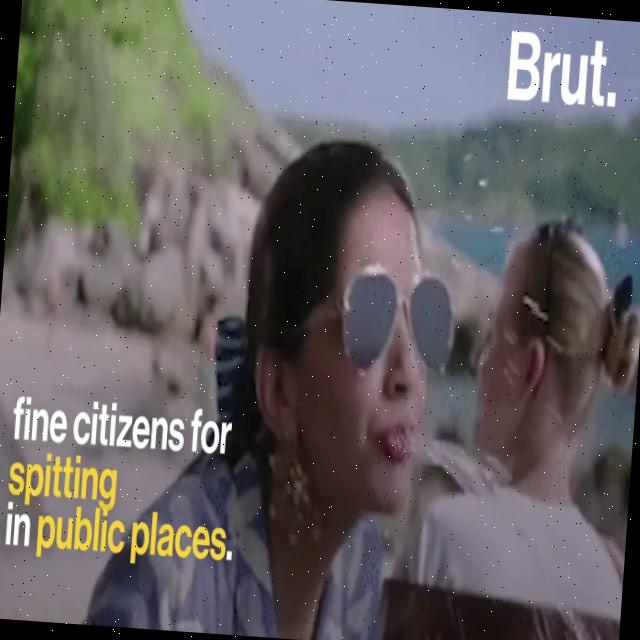spit: (324, 329, 582, 640)
